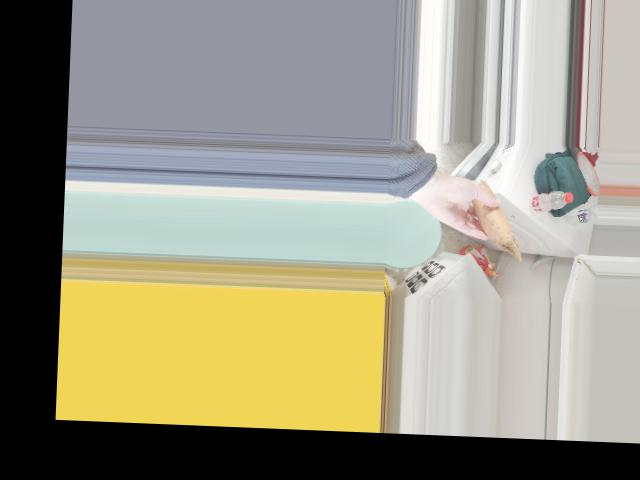sweet_potato: (472, 192, 512, 241)
